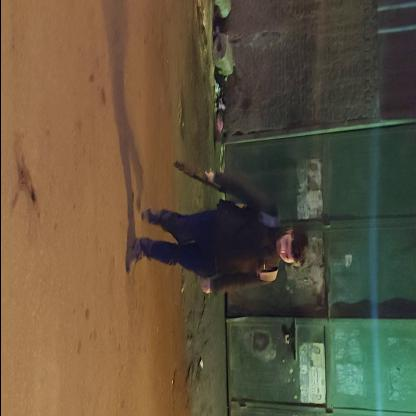long weapon: (176, 158, 242, 209)
